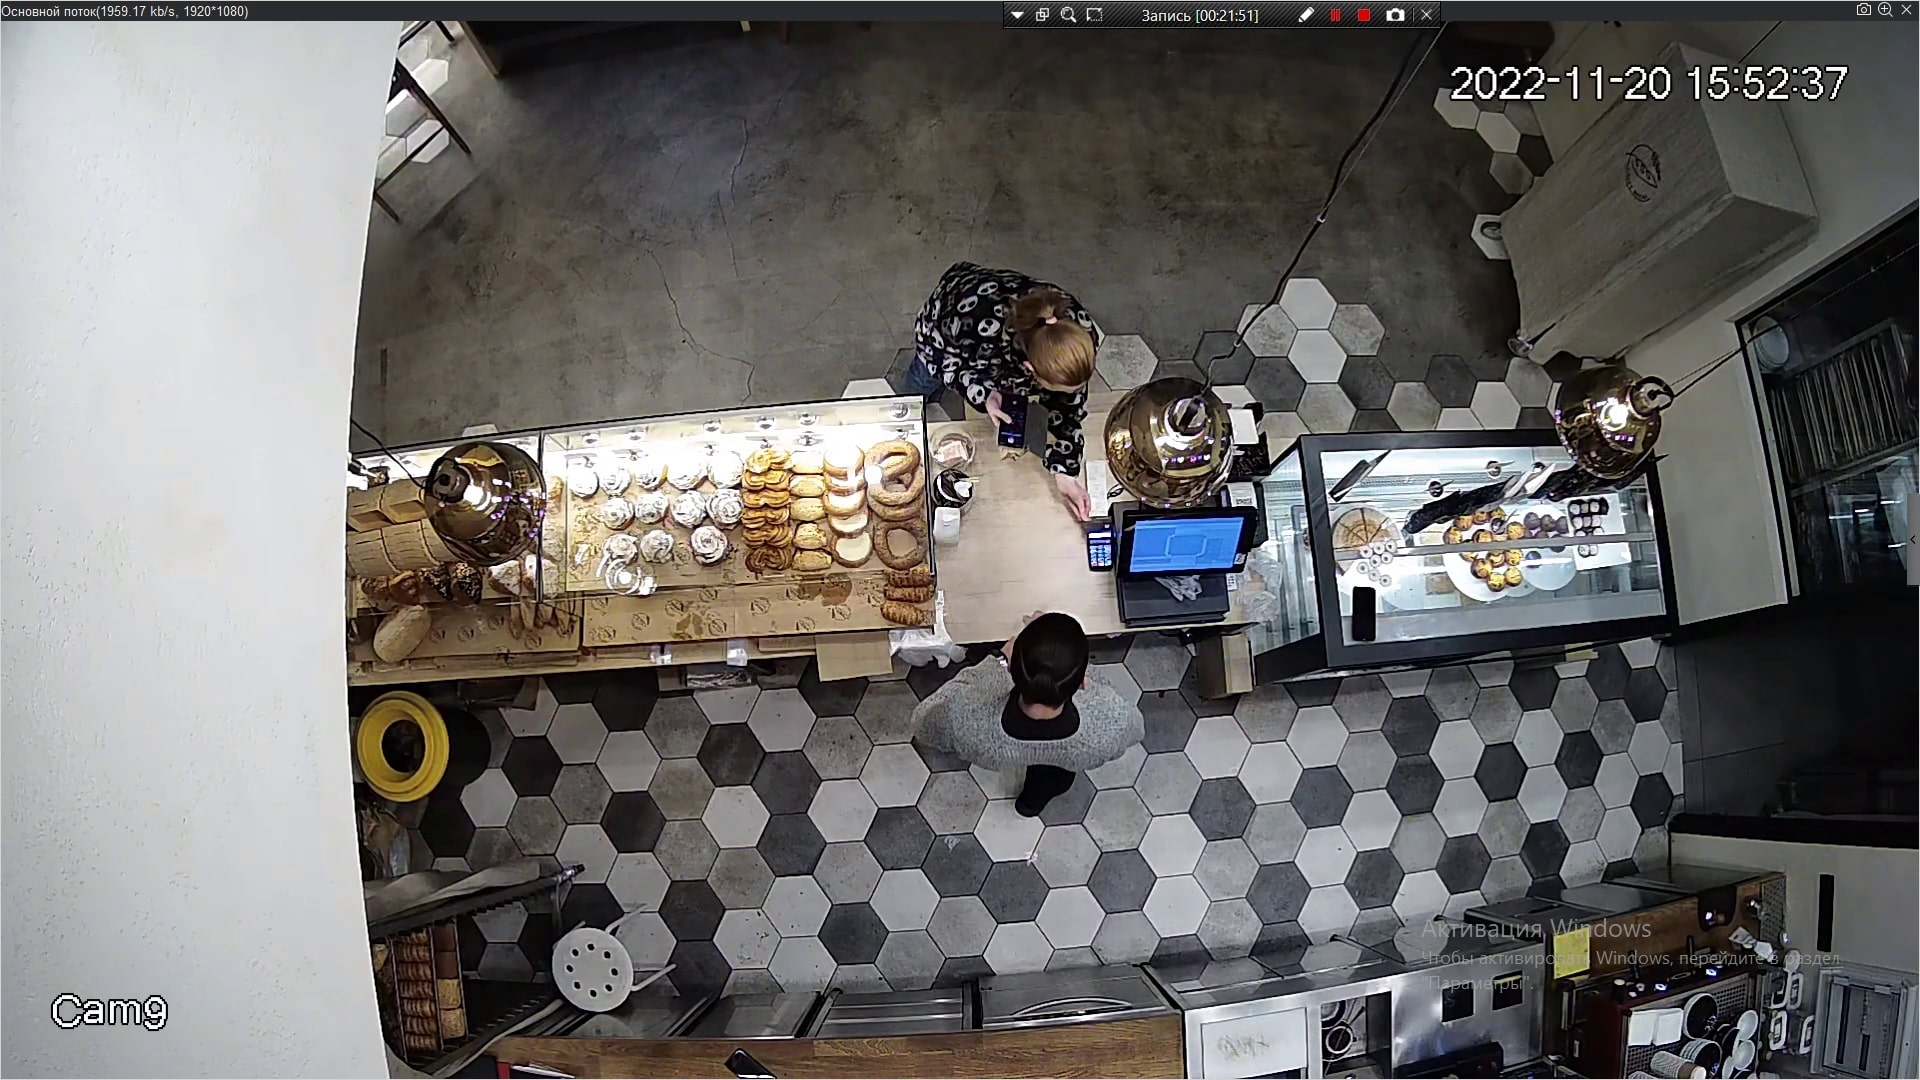barcounter: (357, 427, 1718, 668)
person: (887, 273, 1125, 457), (937, 630, 1159, 784)
terminal: (1064, 472, 1118, 577)
